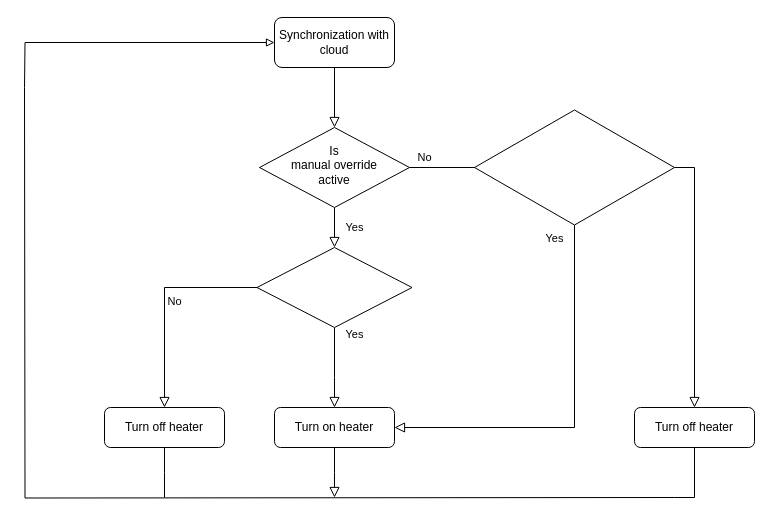
Some shapes in this 772 by 525 pixel diagram are drawn without their labels. The shapes that lost their labels are listed below. From the top down, each one's box as (x1, y1, x2, y2) in pixels, then its label:
(474, 109, 674, 225): Is temperature from sensor lower than set activation threshold
(256, 246, 412, 328): Is heating set to "on"
